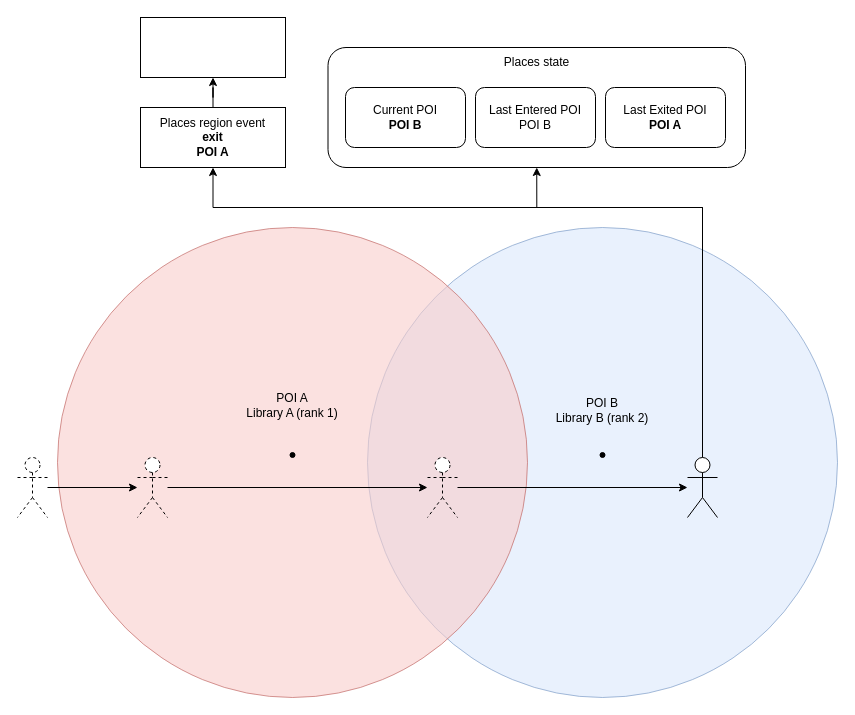
Some shapes in this 855 by 715 pixel diagram are drawn without their labels. The centre of each missing label's shape, as x and y in pixels:
Places XDM Edge event location.exit POI A: point 213,47
User: point 702,487
